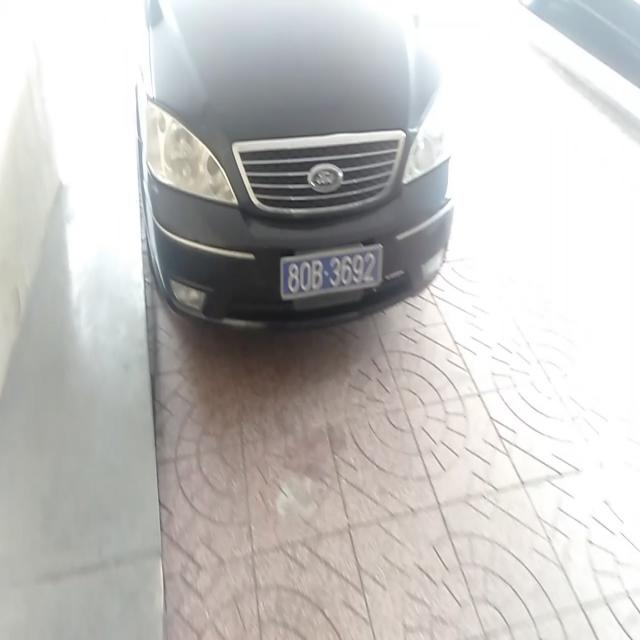bien_xanh: (278, 244, 384, 306)
